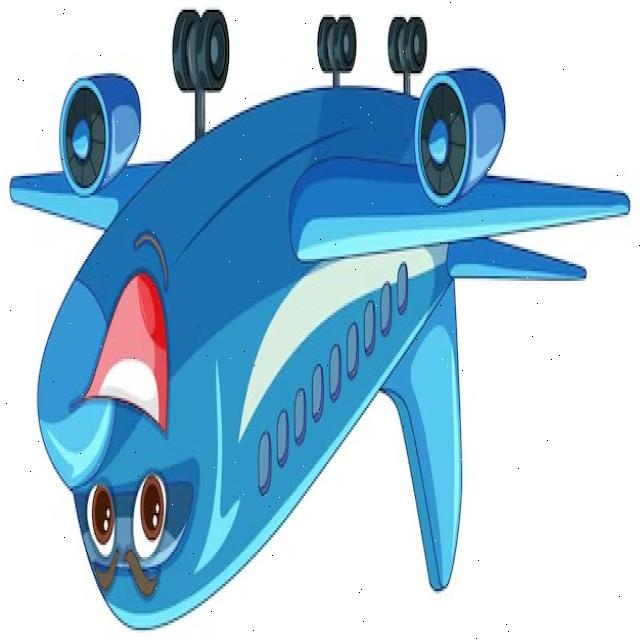aircraft: (0, 0, 638, 596)
